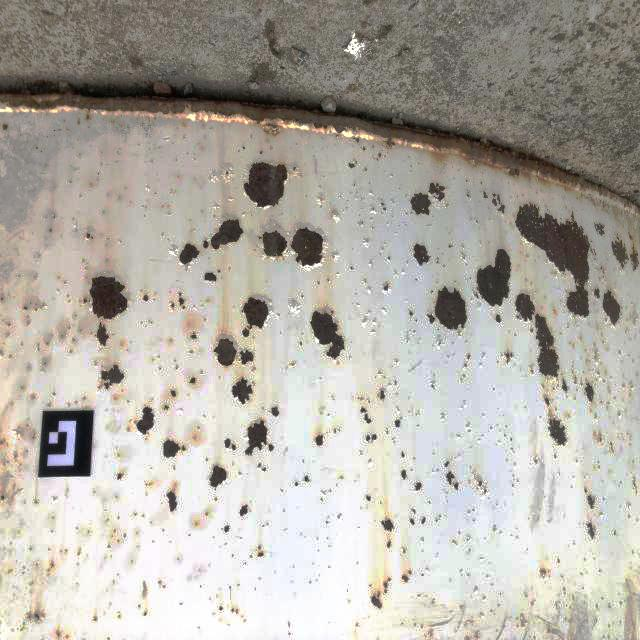Corrosion: (0, 85, 640, 217), (514, 200, 598, 319), (243, 158, 301, 210), (83, 269, 131, 321), (475, 248, 512, 308), (310, 304, 347, 363), (289, 223, 328, 270), (534, 312, 560, 382), (433, 285, 468, 332), (213, 332, 256, 367), (241, 293, 274, 338), (256, 217, 289, 261), (210, 216, 244, 251), (244, 417, 269, 457), (602, 286, 622, 327), (97, 364, 125, 393), (547, 408, 567, 447), (611, 231, 630, 271), (134, 404, 156, 436), (514, 291, 536, 323), (231, 375, 253, 405), (208, 462, 228, 492), (409, 192, 432, 217), (179, 242, 200, 269), (628, 230, 640, 273), (471, 470, 489, 498), (427, 180, 448, 203), (163, 438, 186, 458), (413, 243, 432, 267), (94, 321, 110, 347), (491, 192, 505, 214), (165, 489, 177, 513), (584, 380, 595, 404), (287, 297, 302, 313), (586, 521, 597, 541), (221, 164, 233, 182), (371, 591, 383, 609), (593, 221, 605, 239), (381, 518, 394, 533), (224, 437, 237, 451), (85, 226, 94, 242), (239, 503, 249, 517), (204, 272, 218, 282), (445, 472, 455, 486), (587, 495, 596, 510), (381, 282, 391, 295), (504, 350, 513, 364), (599, 262, 606, 279), (543, 395, 552, 408), (317, 194, 325, 208), (271, 405, 280, 417), (377, 388, 386, 400), (427, 312, 436, 324), (592, 286, 600, 299), (33, 612, 44, 621), (331, 210, 340, 221), (202, 238, 210, 250), (350, 136, 362, 144), (562, 377, 568, 393), (632, 479, 638, 495), (178, 292, 185, 305), (257, 462, 266, 472), (597, 430, 603, 445), (315, 435, 323, 446), (539, 568, 547, 579), (363, 237, 370, 249), (189, 331, 198, 340), (414, 482, 422, 492), (168, 301, 175, 312), (408, 308, 415, 319), (364, 413, 371, 424), (289, 360, 297, 369), (401, 574, 409, 583), (521, 616, 527, 628), (495, 313, 501, 324), (609, 442, 615, 453), (116, 473, 124, 481), (2, 123, 9, 132), (348, 162, 357, 169), (330, 252, 339, 259), (394, 419, 401, 428), (364, 433, 371, 442), (268, 443, 274, 453), (210, 171, 216, 181), (401, 470, 407, 480), (453, 481, 459, 491), (428, 630, 434, 640), (189, 377, 196, 385), (143, 293, 149, 302), (483, 189, 489, 198), (473, 291, 479, 300), (257, 552, 264, 559), (170, 390, 176, 398), (224, 525, 230, 533), (304, 476, 310, 484), (371, 433, 377, 441), (163, 405, 170, 411), (360, 145, 367, 151), (372, 155, 379, 161), (370, 206, 376, 213), (360, 407, 367, 413), (48, 564, 54, 571), (552, 308, 558, 315), (0, 438, 5, 446), (431, 383, 436, 391), (410, 518, 415, 526), (383, 581, 388, 589), (461, 252, 466, 260), (466, 190, 471, 198), (546, 202, 550, 212), (357, 220, 363, 226), (387, 540, 391, 549), (251, 366, 256, 373), (27, 613, 32, 620), (1, 494, 6, 501), (421, 517, 426, 524), (41, 360, 46, 367), (467, 353, 471, 361), (55, 632, 59, 640), (554, 602, 558, 610), (24, 305, 29, 311), (366, 495, 371, 501), (401, 548, 406, 554), (411, 508, 416, 514), (407, 570, 412, 576), (444, 461, 449, 467), (475, 634, 480, 640), (378, 152, 382, 159), (401, 451, 405, 458), (436, 257, 440, 264), (574, 375, 577, 384), (218, 606, 223, 611), (59, 334, 64, 339), (378, 370, 383, 375), (453, 540, 458, 545), (48, 227, 52, 233), (182, 305, 186, 311), (295, 481, 299, 487), (386, 428, 389, 436), (392, 438, 396, 444), (0, 296, 4, 302), (260, 148, 264, 154), (265, 136, 269, 142), (633, 316, 636, 324), (32, 432, 35, 439), (530, 367, 533, 374), (76, 118, 79, 125), (363, 279, 367, 284), (387, 577, 391, 582), (445, 203, 449, 208), (530, 328, 534, 333), (622, 384, 627, 388), (53, 213, 56, 219), (13, 454, 16, 460), (459, 330, 462, 336), (542, 384, 545, 390), (422, 626, 425, 632), (242, 146, 246, 150), (381, 202, 385, 206), (449, 244, 453, 248), (395, 360, 399, 364), (34, 307, 37, 312), (258, 545, 261, 550), (384, 589, 387, 594), (200, 370, 203, 375), (395, 380, 398, 385), (440, 340, 443, 345), (555, 454, 558, 459), (7, 323, 11, 326), (231, 608, 234, 612), (372, 144, 374, 150), (406, 339, 409, 343), (359, 398, 363, 401), (535, 460, 538, 464), (300, 341, 302, 346), (236, 609, 238, 614), (334, 429, 336, 434), (465, 638, 470, 640), (35, 303, 38, 306), (383, 208, 386, 211), (387, 257, 390, 260), (435, 519, 438, 522), (238, 148, 240, 152), (431, 290, 433, 294), (476, 220, 478, 224), (384, 155, 386, 158), (360, 452, 362, 455), (422, 574, 424, 577), (340, 477, 342, 479)
